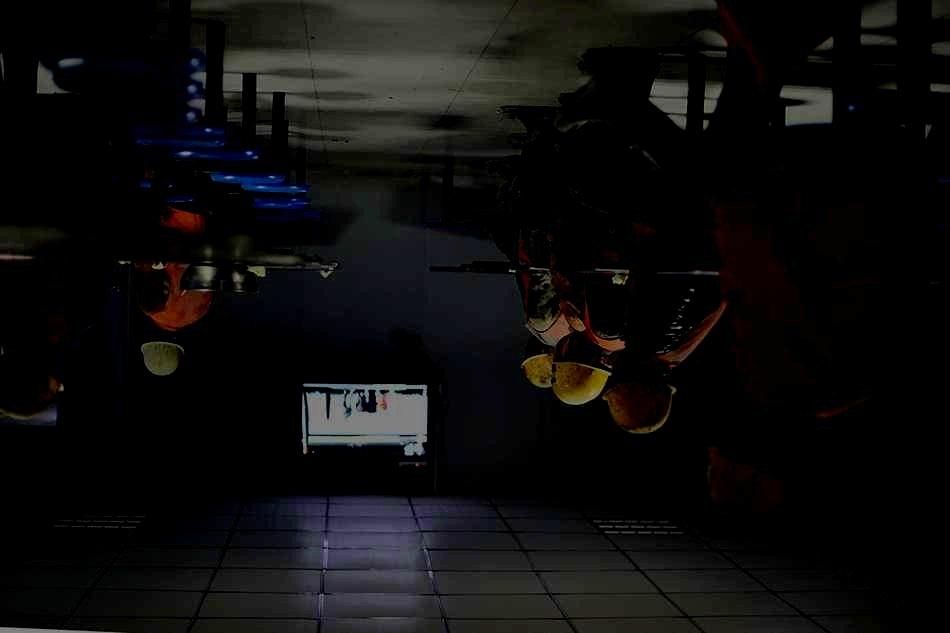helmet: (602, 349, 676, 434), (551, 331, 612, 406), (140, 327, 185, 376), (521, 337, 555, 387)
